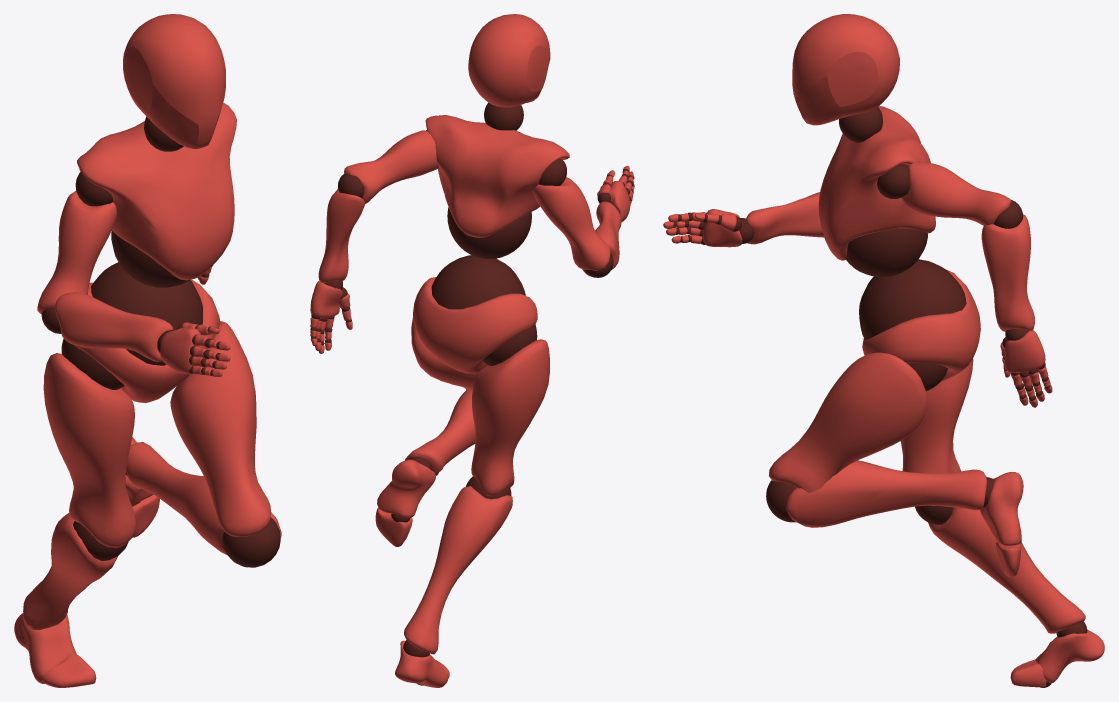
File: estudante.obj
3 renders of one model, left to right at view 1: azimuth 30°, elevation 25°; view 2: azimuth 150°, elevation 25°; view 3: azimuth 270°, elevation 25°, orthographic. The views are drawn at different scales.
Visible parts, largest first — view 1: Beta_Surface, Beta_Joints; view 2: Beta_Surface, Beta_Joints; view 3: Beta_Surface, Beta_Joints.
Boxes of the visible parts, x1,y1,x2,y2 form: Beta_Surface: (14, 14, 281, 687); Beta_Joints: (41, 117, 280, 567); Beta_Surface: (310, 14, 634, 687); Beta_Joints: (310, 102, 634, 685); Beta_Surface: (663, 14, 1104, 687); Beta_Joints: (673, 107, 1087, 687).
Size of the model in its own units: 0.652 by 1.7 by 1.02.
